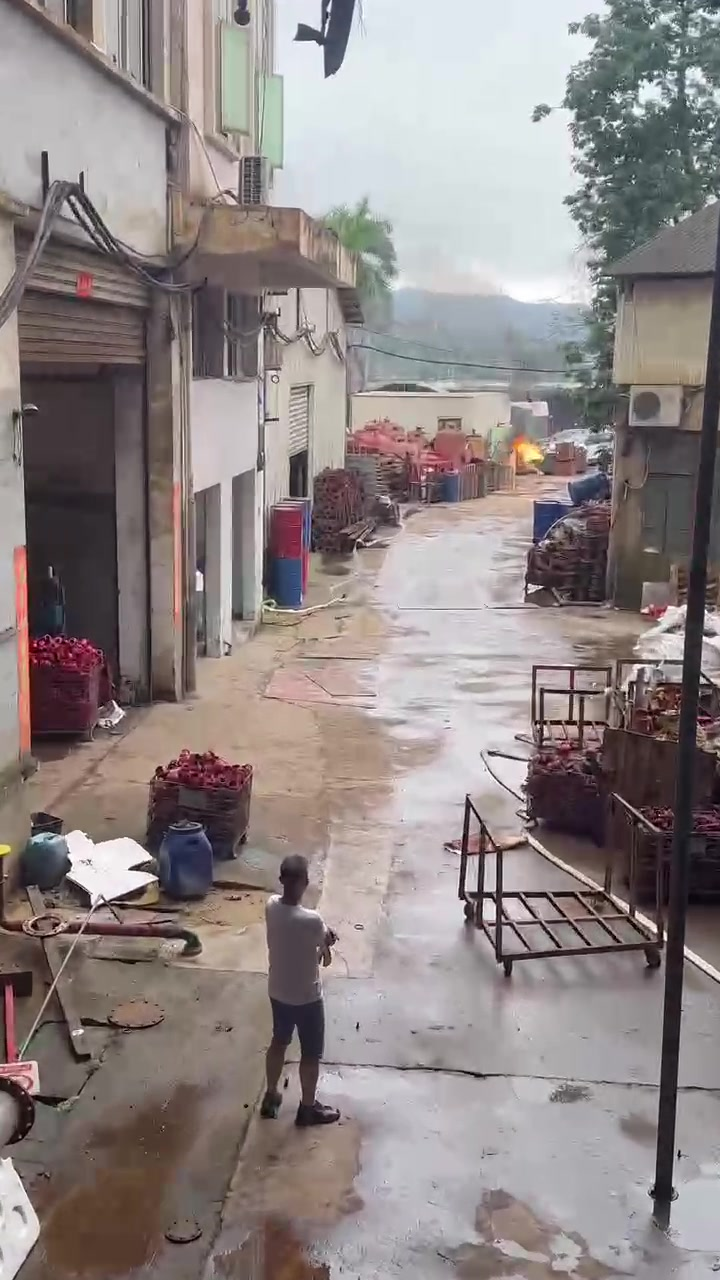fire: (515, 441, 544, 464)
